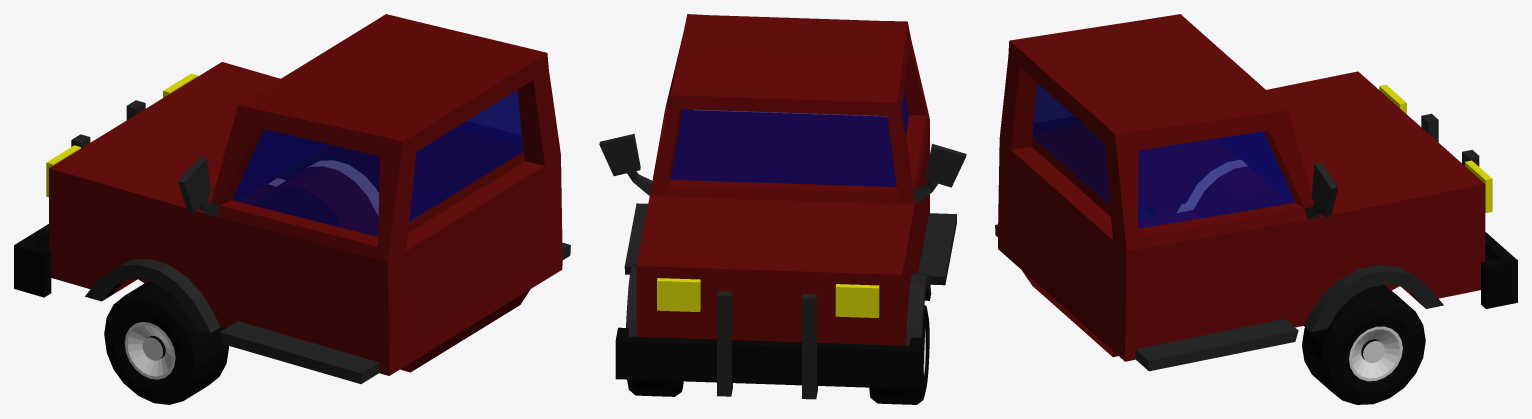
The model's file is cab.fbx.
3 views of the same model, side by side, from view 1: azimuth 30°, elevation 25°; view 2: azimuth 150°, elevation 25°; view 3: azimuth 270°, elevation 25° (orthographic). The views are drawn at different scales.
Visible parts, largest first — view 1: pasted__pCylinder100; view 2: pasted__pCylinder100; view 3: pasted__pCylinder100.
Part boxes in pixels (left/top/right/bottom): pasted__pCylinder100: left=14, top=14, right=570, bottom=404; pasted__pCylinder100: left=599, top=14, right=966, bottom=404; pasted__pCylinder100: left=995, top=14, right=1517, bottom=404.
Bounding box in the file's own units: 4.06 × 2.79 × 4.32.
